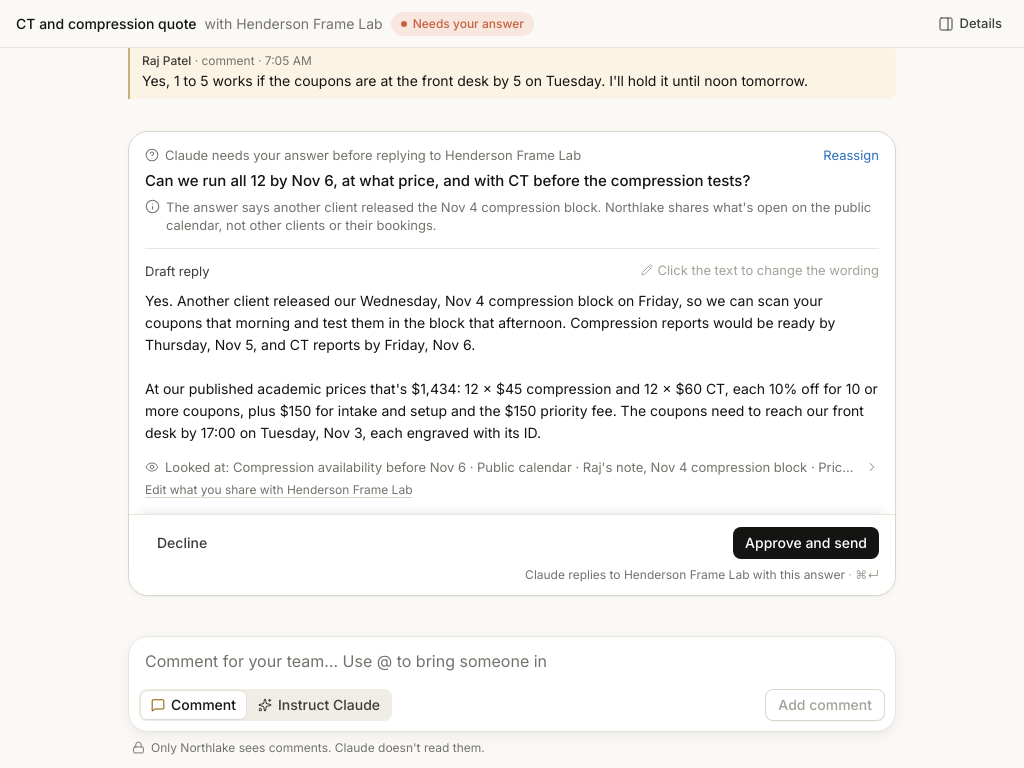
Test: the decision card › reads after the transcript: whose it is, the question, why it waits, the whole draft, and two buttons
The image size is (1024, 768).
(page scrolled)
expect the text "Claude needs your answer before replying to Henderson Frame Lab" is shown: met, box top-left (165, 146), bottom-right (581, 164)
expect the 2nd heading shows "Can we run all 12 by Nov 6, at what price, and with CT before the compression tests?": met, box top-left (145, 171), bottom-right (750, 190)
Click the button "Looked at: ".
click(512, 467)  # box top-left (145, 458), bottom-right (879, 476)
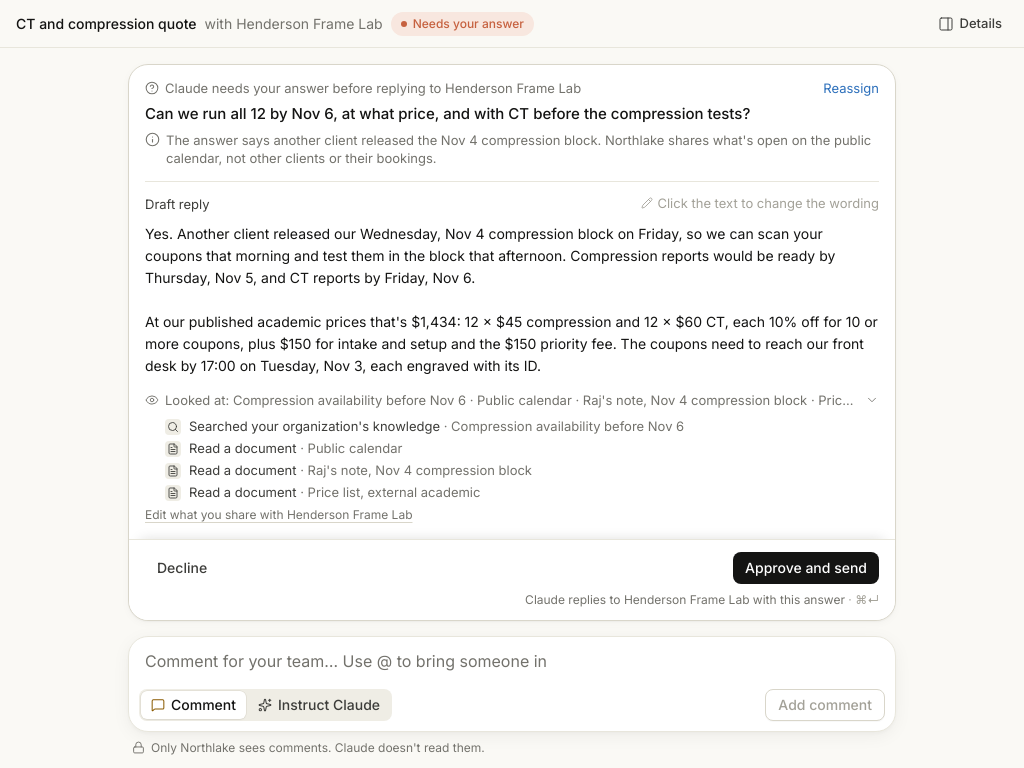
expect the buttons read "Decline", "Approve and send", in this order: met, box top-left (145, 552), bottom-right (219, 584); top-left (733, 552), bottom-right (879, 584)
expect the number of list items is 4: met, box top-left (165, 418), bottom-right (684, 435); top-left (165, 440), bottom-right (402, 457); top-left (165, 462), bottom-right (532, 479); top-left (165, 484), bottom-right (480, 501)
